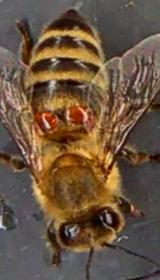varroa_mite: (56, 101, 95, 131), (32, 107, 62, 132)
